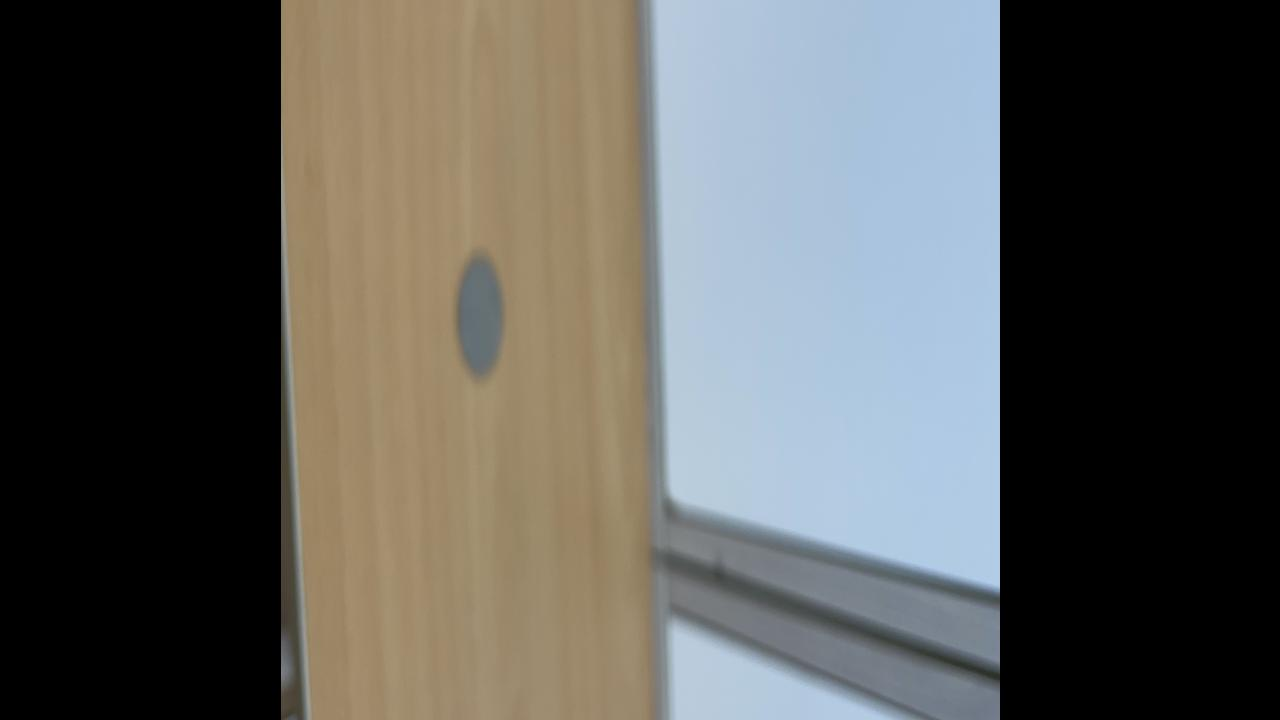coin: (452, 243, 507, 388)
